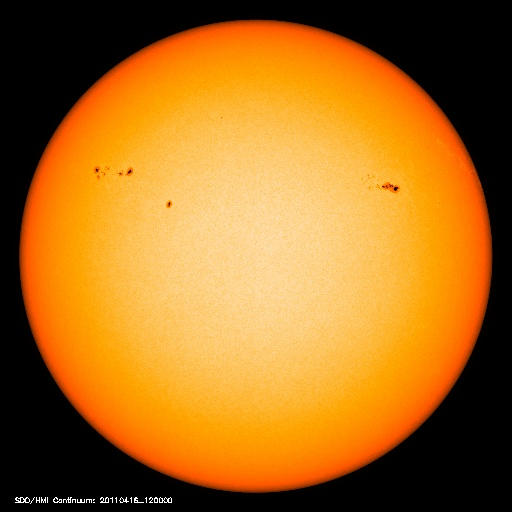sunspot: (350, 166, 405, 199), (86, 157, 141, 186), (151, 185, 183, 217)
